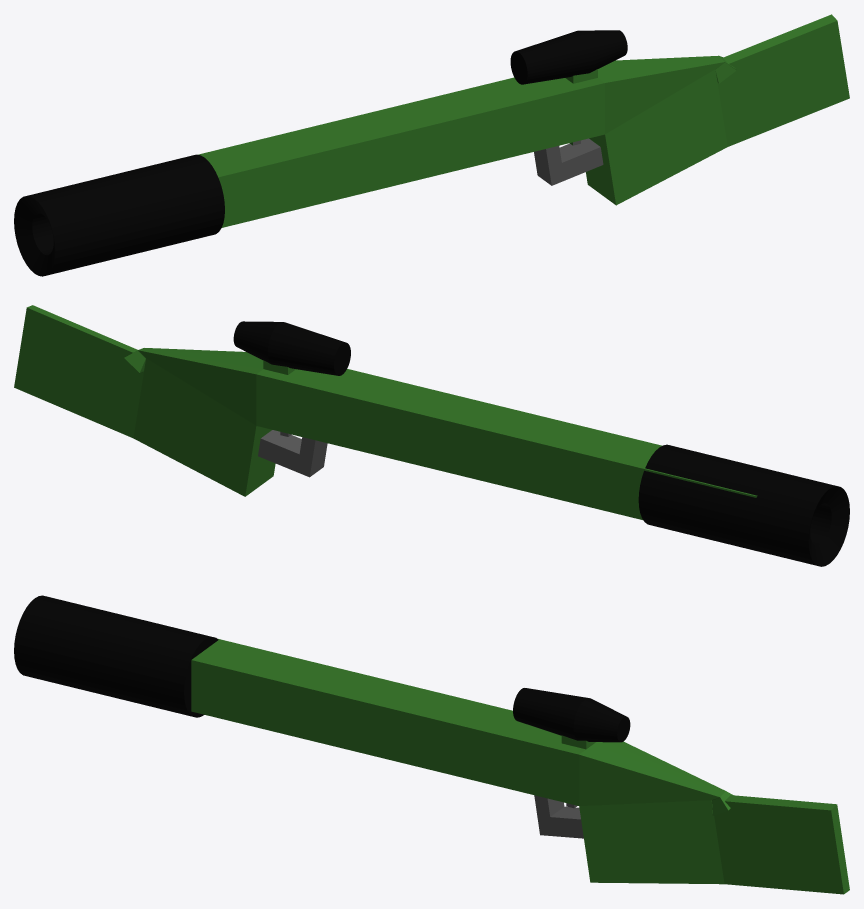
File: Sniper.fbx
3 renders of one model, top to bottom at view 1: azimuth 30°, elevation 25°; view 2: azimuth 150°, elevation 25°; view 3: azimuth 330°, elevation 25°, orthographic.
Parts seen in each view (by area): view 1: Cube, Cylinder, Cylinder.001; view 2: Cube, Cylinder, Cylinder.001; view 3: Cube, Cylinder, Cylinder.001.
Part boxes in pixels (<box>): Cube: <box>198,14,849,227</box>; Cylinder: <box>14,154,224,276</box>; Cylinder.001: <box>510,30,627,84</box>; Cube: <box>14,305,757,519</box>; Cylinder: <box>638,444,849,566</box>; Cylinder.001: <box>233,321,350,375</box>; Cube: <box>191,639,849,894</box>; Cylinder: <box>14,595,218,717</box>; Cylinder.001: <box>513,688,630,742</box>.
Size of the model in its own units: 1025 by 202 by 90.31.
